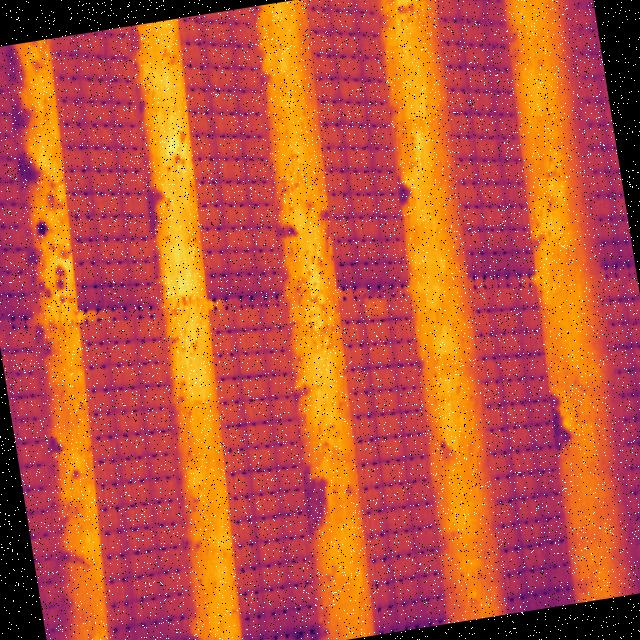Hotspot: (358, 294, 391, 320)
